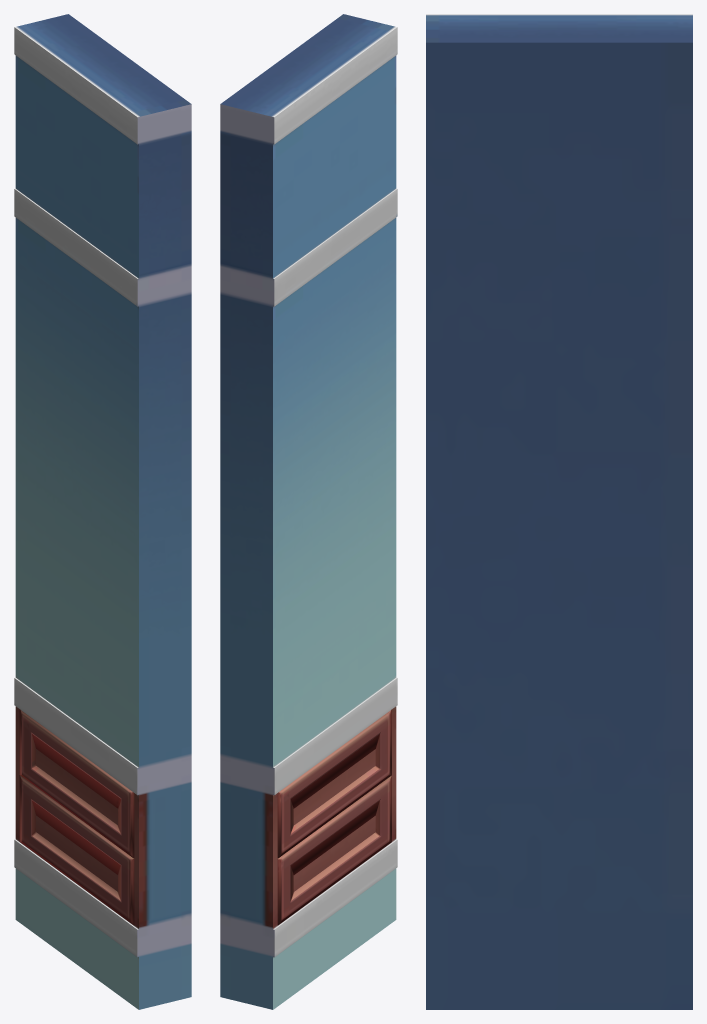
The model's file is my_chocolatecafe_01_p_wall_right.glb.
The picture shows the model from 3 angles, left to right: view 1: azimuth 30°, elevation 25°; view 2: azimuth 150°, elevation 25°; view 3: azimuth 270°, elevation 25°; orthographic projection. The views are drawn at different scales.
Parts seen in each view (by area): view 1: my_chocolatecafe_01_p_wall_right; view 2: my_chocolatecafe_01_p_wall_right; view 3: my_chocolatecafe_01_p_wall_right.
Boxes of the visible parts, x1,y1,x2,y2 form: my_chocolatecafe_01_p_wall_right: (14,14,191,1009); my_chocolatecafe_01_p_wall_right: (220,14,397,1009); my_chocolatecafe_01_p_wall_right: (426,14,692,1009).
Bounding box in the file's own units: 0.00305 × 0.048 × 0.012.
1 material, 1 textured.
